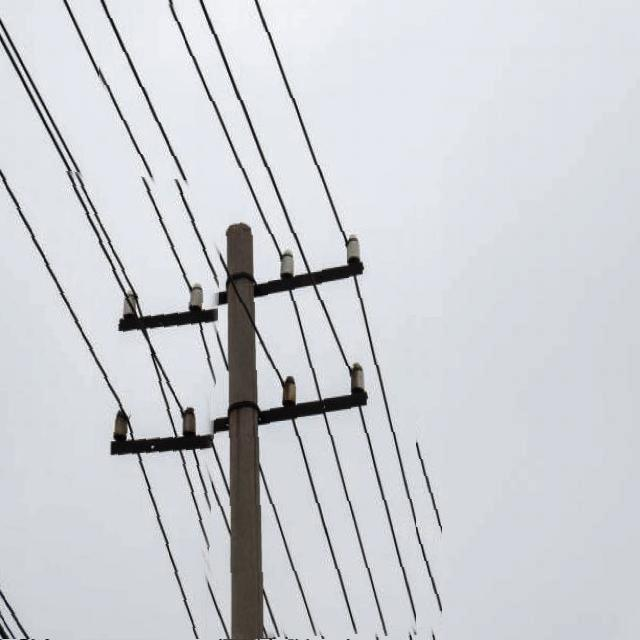crossarm: (123, 241, 359, 322), (126, 369, 363, 445)
pole: (222, 226, 260, 639)
wire: (97, 1, 353, 628), (196, 0, 416, 634), (250, 0, 442, 570), (0, 166, 206, 640)
